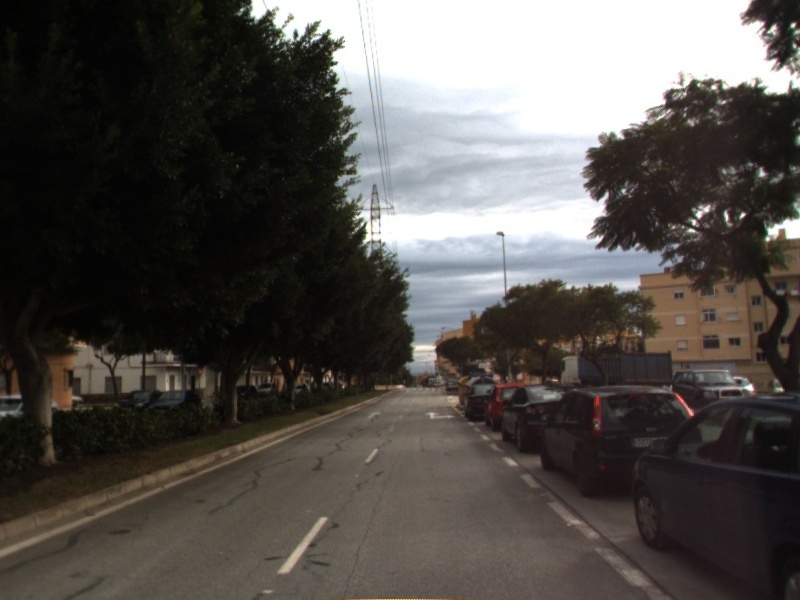STRAIGHT: (364, 409, 385, 421)
STRAIGHT_RIGHT: (422, 409, 458, 421)
